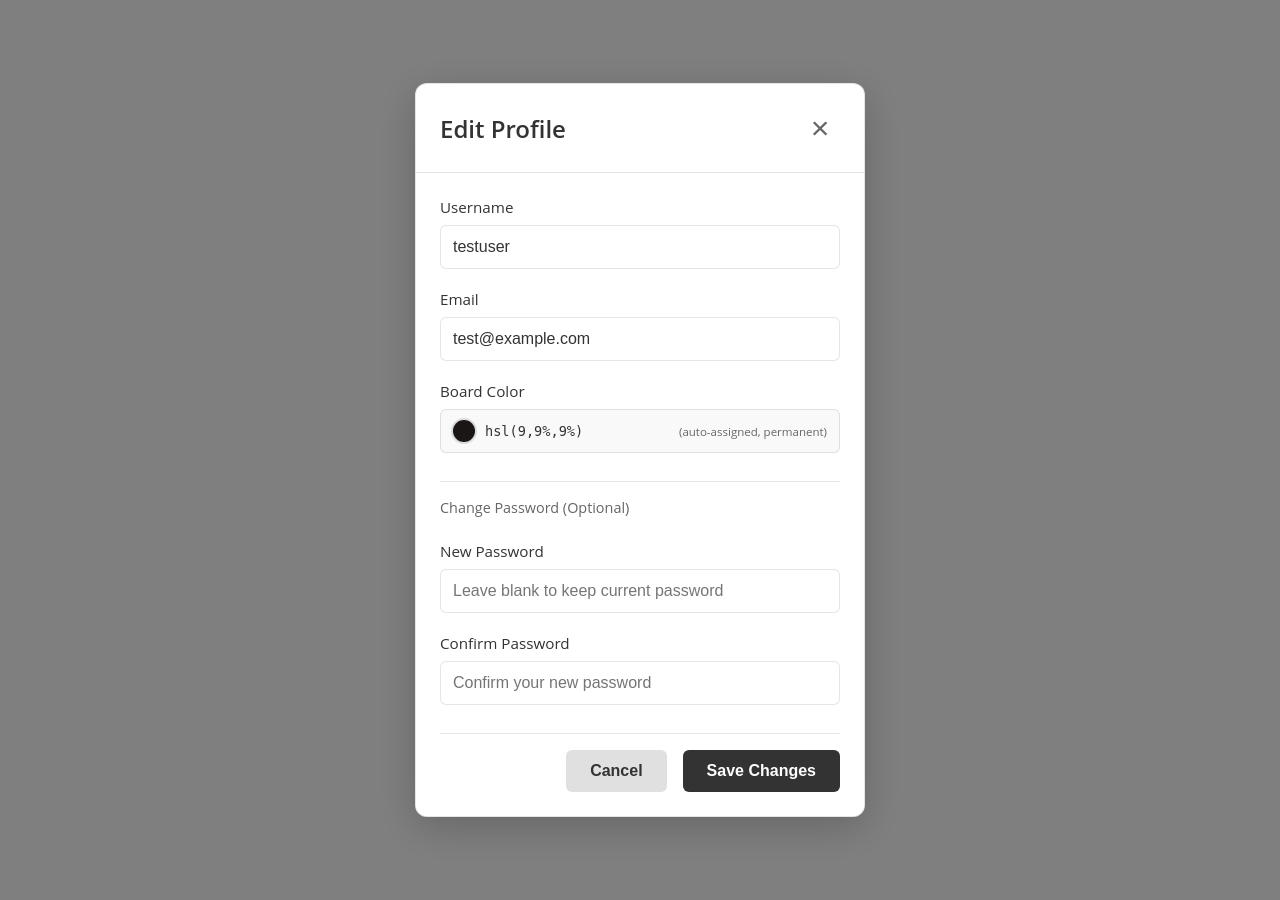
EditProfileModal outcomes › should require a username and email before saving
The image size is (1280, 900).
Clear the field labelled "Email" at (640, 339), box 440,317 -> 840,361
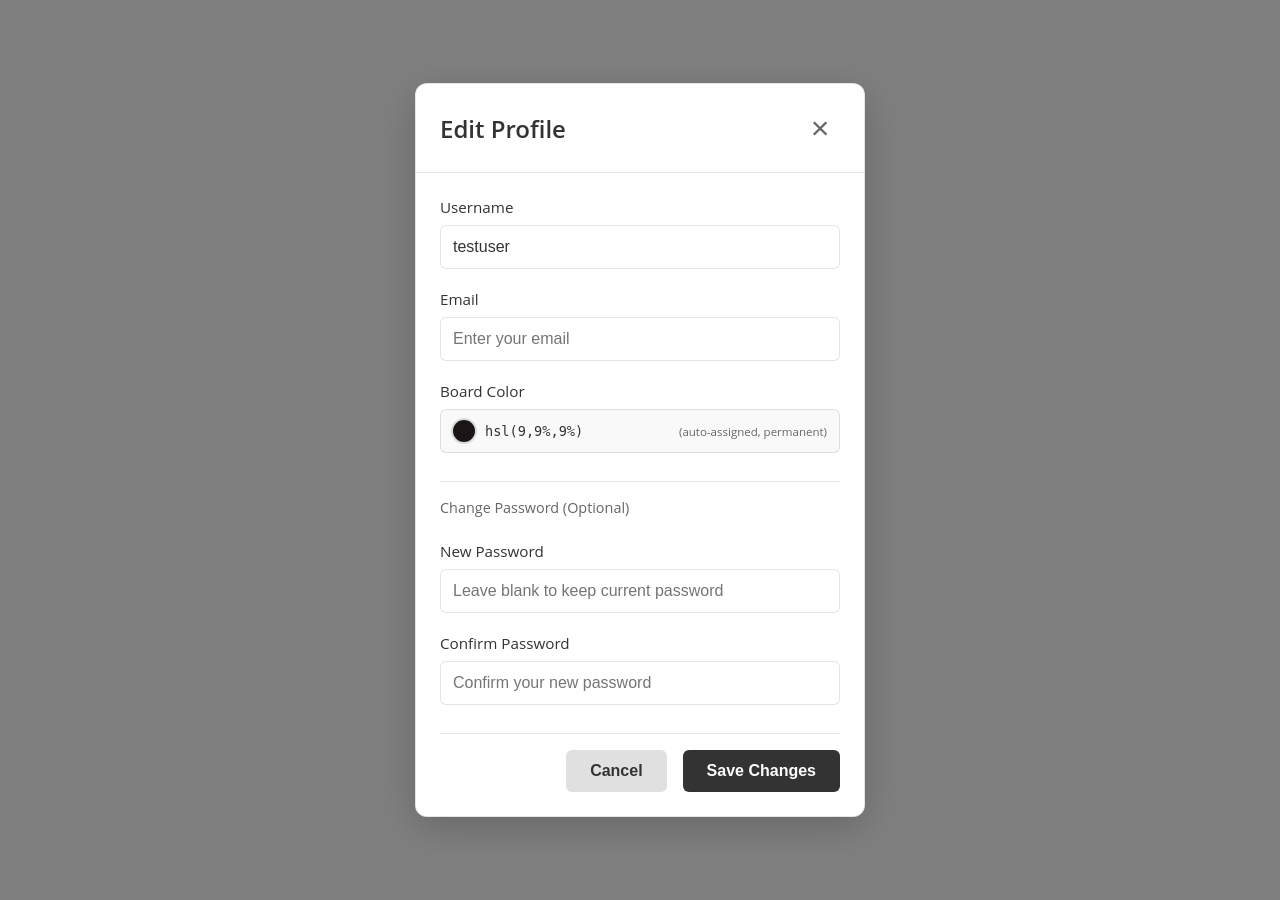
Click the button "Save Changes".
click(761, 771)  # box 683,750 -> 840,792
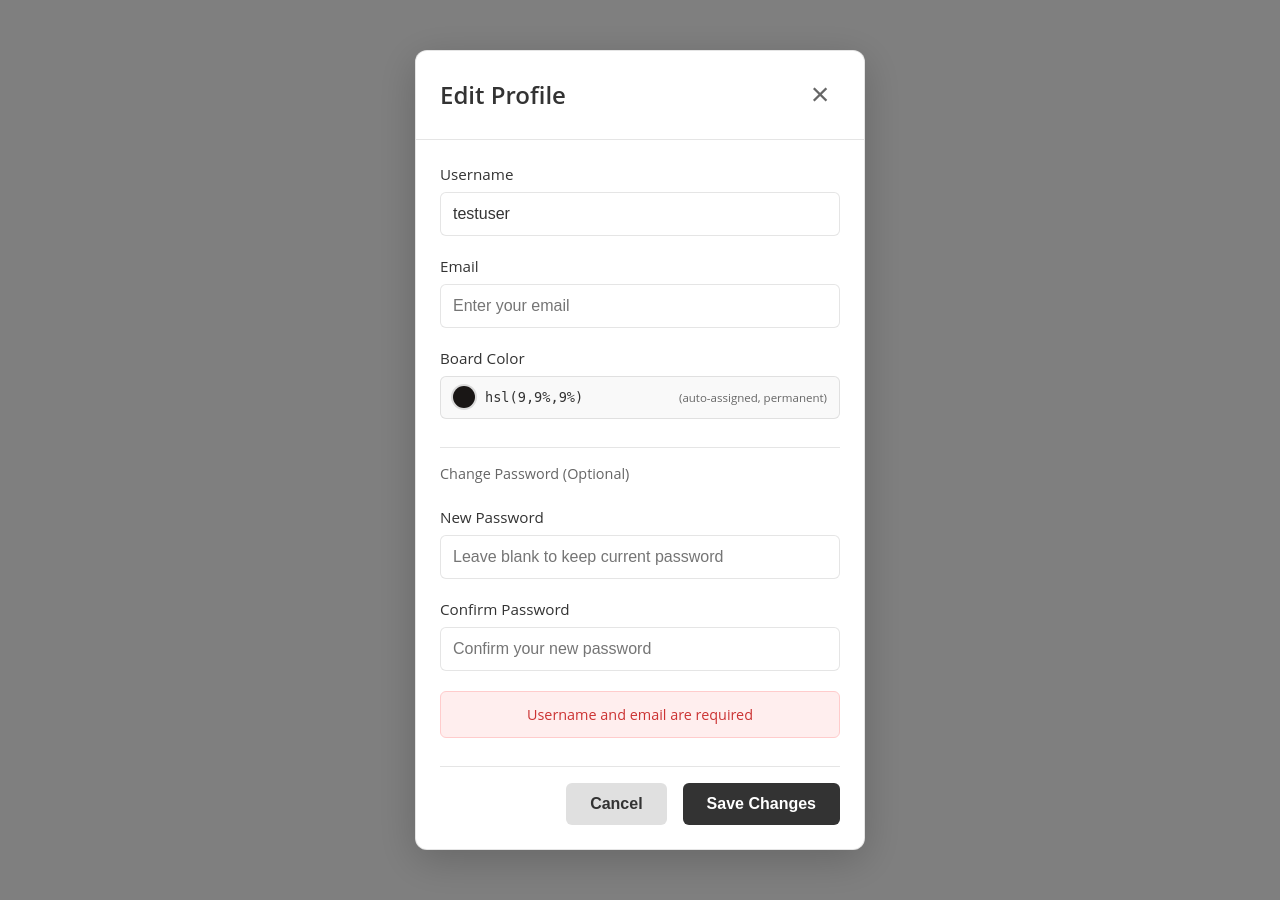
Expected: the text "Username and email are required" is shown, 440,691 -> 840,738
